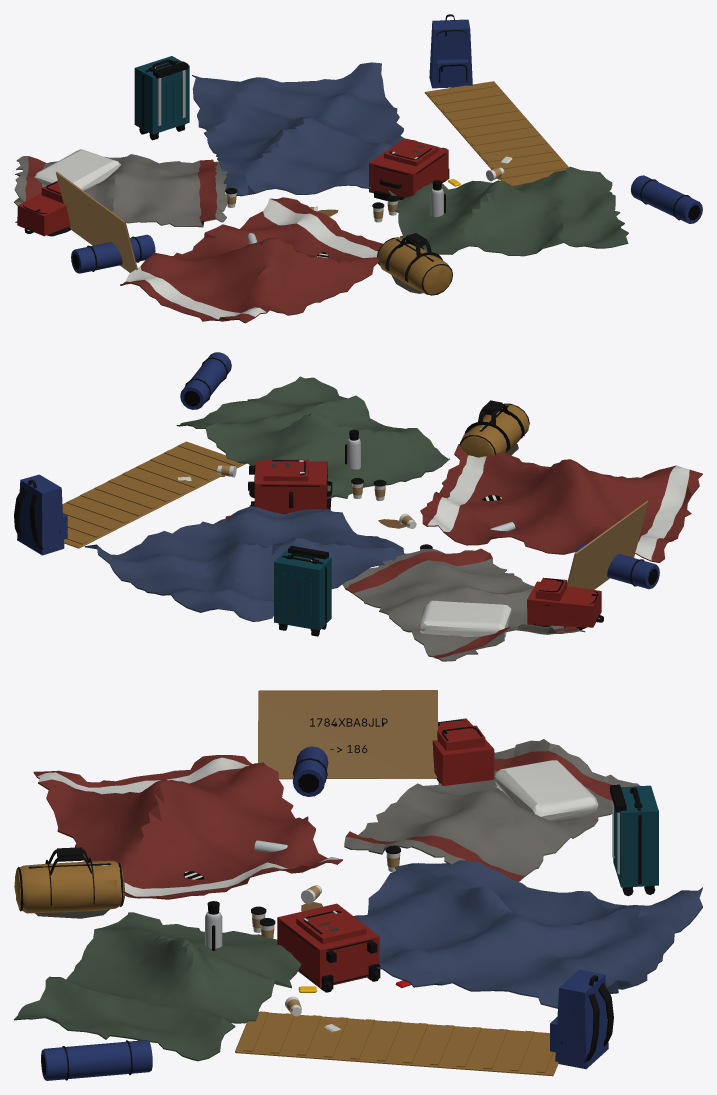
Rendered from camp_c32.glb.
3 renders of one model, top to bottom at view 1: azimuth 30°, elevation 25°; view 2: azimuth 150°, elevation 25°; view 3: azimuth 270°, elevation 25°, orthographic. The views are drawn at different scales.
Parts seen in each view (by area): view 1: camp_3, camp_0, camp_2, camp_5, camp_4, camp_6, camp_1, camp_13, camp_21, camp_17, camp_7, camp_12 (+1 smaller); view 2: camp_0, camp_3, camp_2, camp_5, camp_4, camp_13, camp_1, camp_6, camp_17, camp_21, camp_7, camp_12 (+1 smaller); view 3: camp_3, camp_0, camp_2, camp_5, camp_21, camp_4, camp_13, camp_6, camp_1, camp_17, camp_7, camp_12 (+2 smaller).
Boxes of the visible parts, x1,y1,x2,y2 form: camp_3: (192,62,403,196); camp_0: (25,156,382,323); camp_2: (388,166,628,256); camp_5: (378,81,568,294); camp_4: (14,154,227,227); camp_6: (71,19,702,273); camp_1: (34,149,377,319); camp_13: (17,138,448,236); camp_21: (55,168,501,272); camp_17: (134,56,189,134); camp_7: (24,14,691,295); camp_12: (35,31,449,212); camp_0: (345,444,702,658); camp_3: (84,505,407,621); camp_2: (176,376,449,498); camp_5: (62,404,529,548); camp_4: (342,549,585,661); camp_13: (254,459,601,627); camp_1: (419,455,689,637); camp_6: (17,352,659,589); camp_17: (274,550,331,630); camp_21: (221,465,648,589); camp_7: (14,357,644,629); camp_12: (248,429,597,632); camp_3: (353,860,702,1008); camp_0: (33,751,612,899); camp_2: (14,912,301,1061); camp_5: (14,860,558,1076); camp_21: (252,690,437,1013); camp_4: (344,739,640,881); camp_13: (277,718,494,988); camp_6: (41,746,608,1080); camp_1: (37,757,598,896); camp_17: (613,785,658,887); camp_7: (17,758,613,1080); camp_12: (207,722,654,991).
Bounding box in the file's own units: 4.41 × 0.5785 × 3.83.
